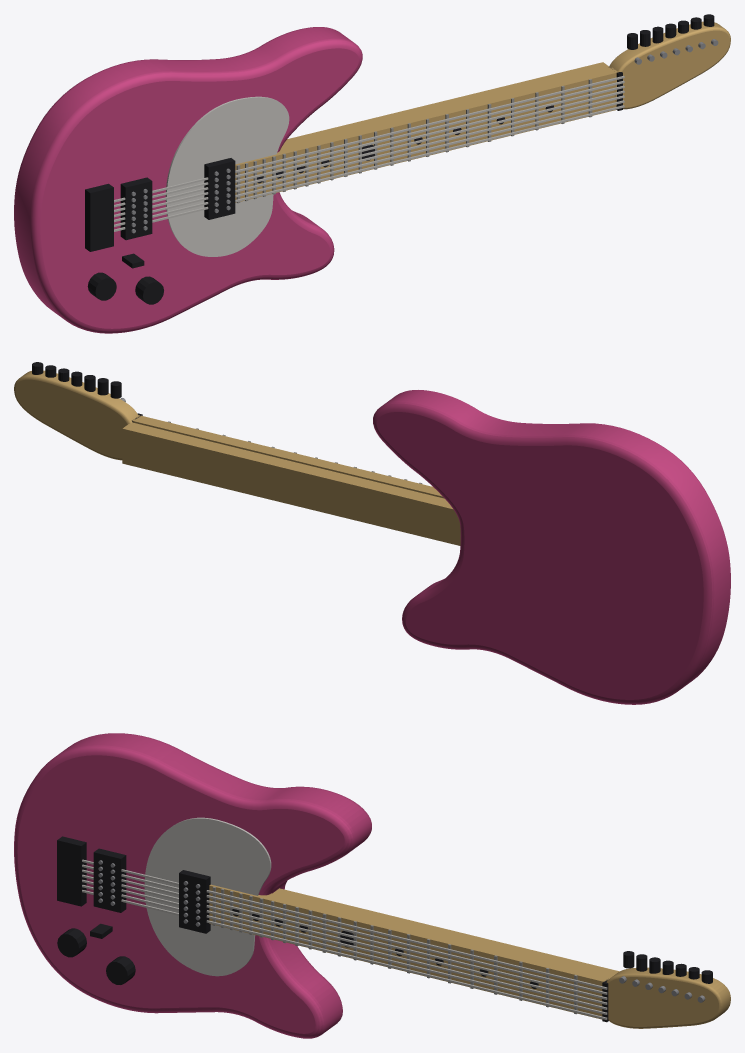
File: mutsumi-guitar.glb
3 views of the same model, one above another, from view 1: azimuth 30°, elevation 25°; view 2: azimuth 150°, elevation 25°; view 3: azimuth 330°, elevation 25° (orthographic). The views are drawn at different scales.
Visible parts, largest first — view 1: Guitar, Guitar.Strings; view 2: Guitar; view 3: Guitar, Guitar.Strings.
Part boxes in pixels (bbox=[...]): Guitar: bbox=[14, 14, 730, 333]; Guitar.Strings: bbox=[114, 75, 624, 231]; Guitar: bbox=[14, 362, 730, 704]; Guitar: bbox=[14, 733, 730, 1038]; Guitar.Strings: bbox=[82, 859, 607, 1019].
Bounding box in the file's own units: 2.35 × 0.8181 × 0.197.
